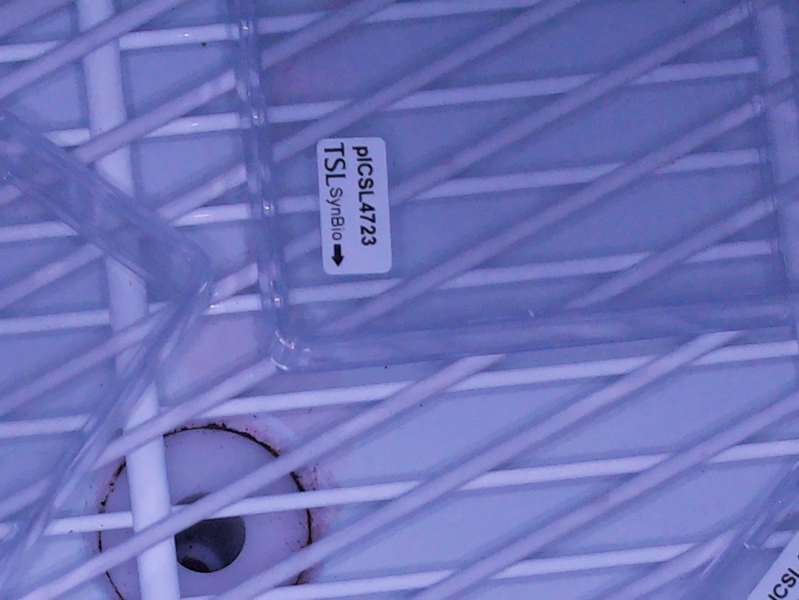plate: (233, 1, 799, 375), (1, 101, 218, 600), (691, 455, 799, 600)
